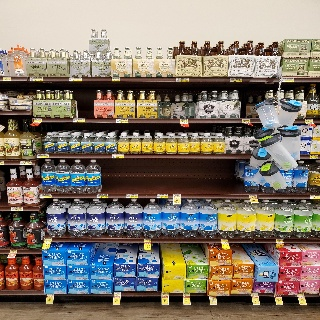All PRICE TAGS: (157, 193, 168, 198), (176, 77, 189, 81), (69, 77, 82, 81), (112, 154, 124, 158), (73, 118, 85, 122), (229, 77, 241, 81), (31, 77, 43, 81), (19, 161, 31, 165), (11, 207, 23, 211), (282, 78, 294, 82), (309, 154, 318, 159), (127, 194, 138, 198), (97, 194, 108, 198), (40, 194, 51, 198), (309, 195, 320, 199), (37, 154, 49, 157), (116, 119, 128, 122), (33, 118, 42, 122), (111, 77, 120, 81), (2, 77, 11, 81), (113, 292, 121, 296), (144, 239, 152, 243), (249, 194, 257, 198), (173, 194, 181, 198), (180, 119, 188, 123), (9, 250, 17, 254), (44, 238, 52, 242), (276, 239, 284, 243), (305, 119, 313, 123), (221, 239, 228, 243), (183, 293, 190, 297), (162, 293, 169, 297), (297, 293, 304, 297), (243, 119, 251, 122), (47, 293, 53, 296), (252, 293, 258, 296)
